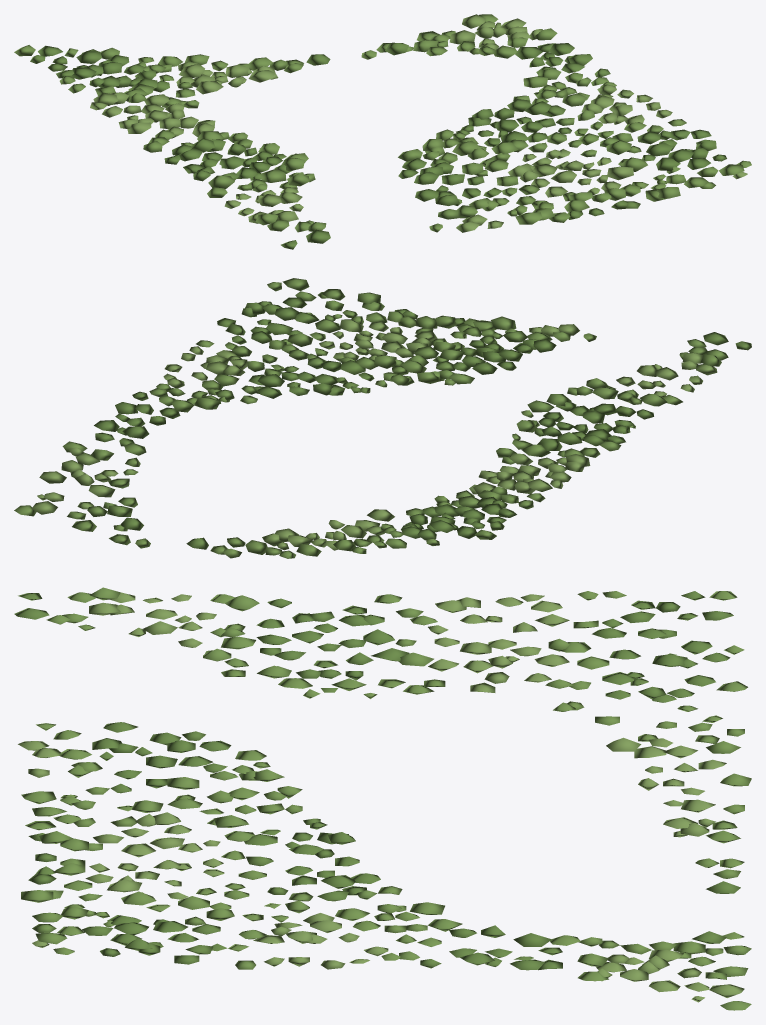
Rendered from canopy-1-3-3.glb.
3 views of the same model, one above another, from view 1: azimuth 30°, elevation 25°; view 2: azimuth 150°, elevation 25°; view 3: azimuth 270°, elevation 25° (orthographic). The views are drawn at different scales.
Size of the model in its own units: 518 by 105 by 518.
1 material, 1 textured.
